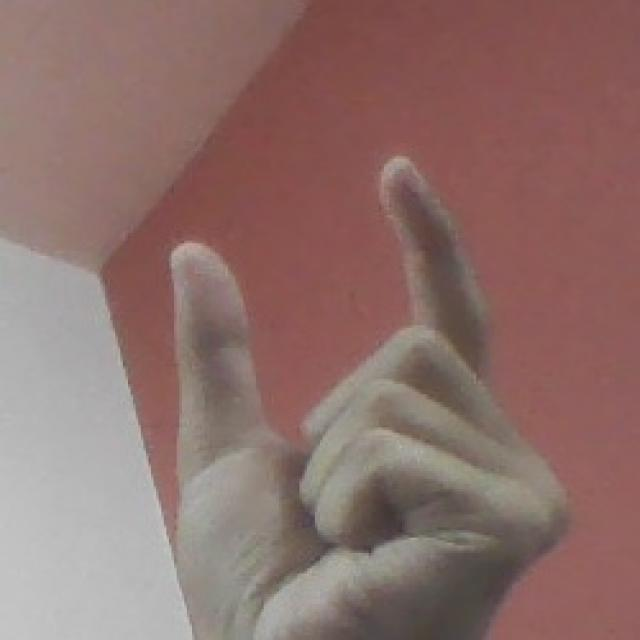Alphabet-U: (180, 108, 564, 640)
